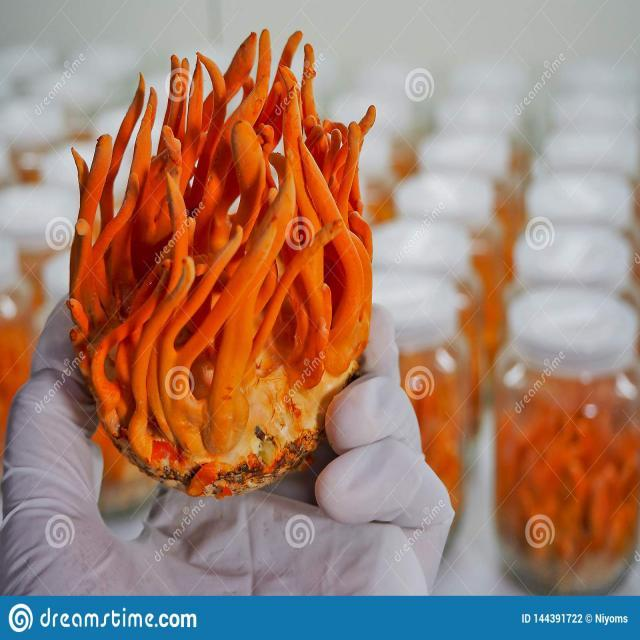Cordyceps militaris: (69, 26, 375, 492)
